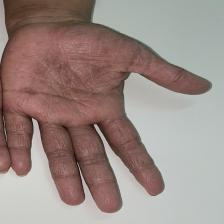Psoriasis vulgaris: (13, 29, 155, 121), (42, 122, 160, 211)
